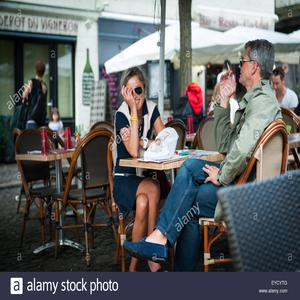cigarette: (226, 63, 231, 72)
